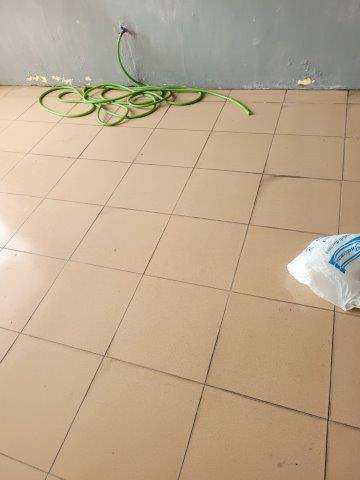plastik: (289, 232, 360, 309)
